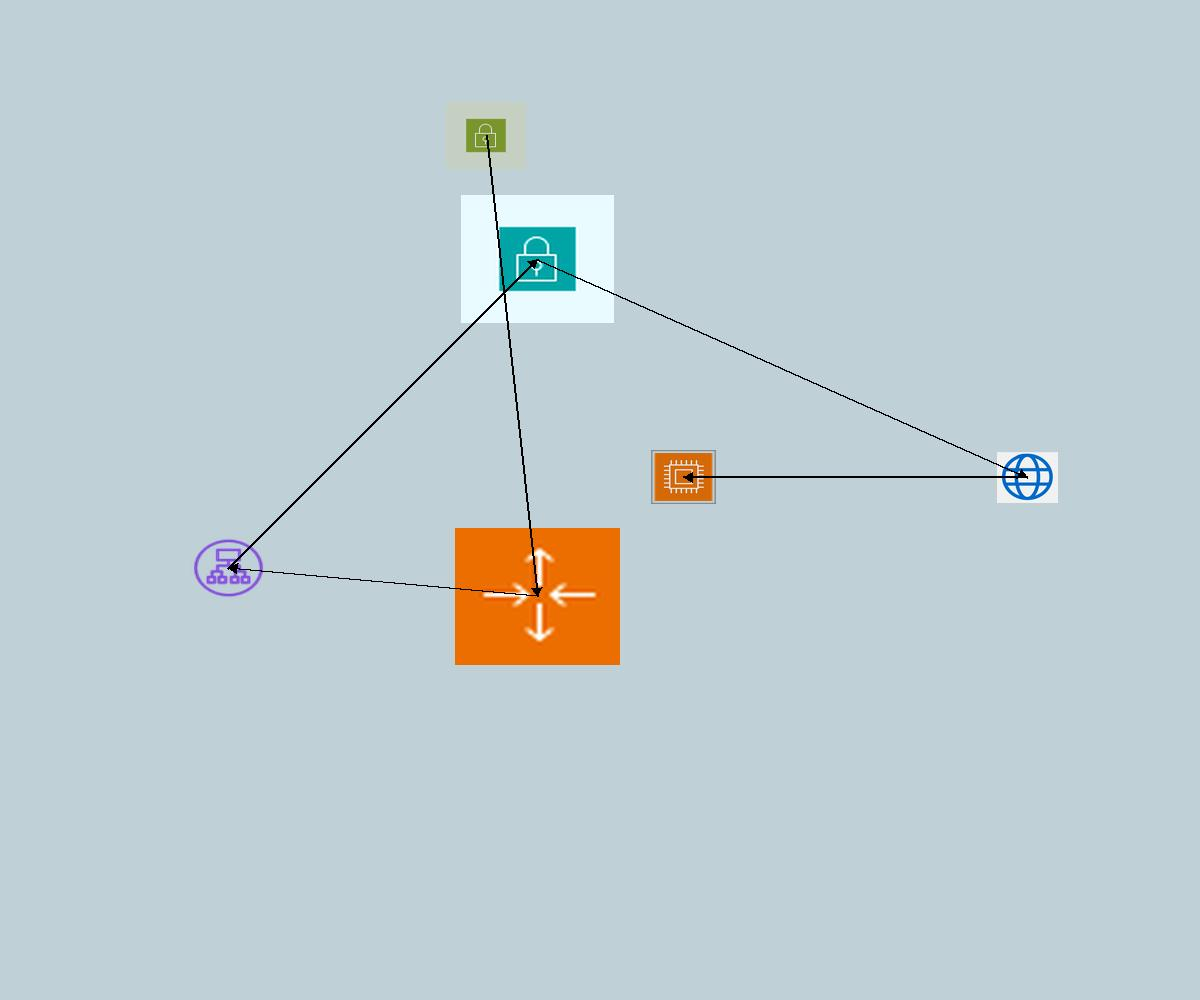AWS-Category_Compute: (651, 450, 716, 504)
AWS-Private-subnet: (461, 195, 614, 323)
AWS-Public-subnet: (446, 102, 526, 169)
AWS-Res_Elastic-Load-Balancing_Application-Load-Balancer: (191, 537, 266, 599)
AWS-Scaling-group: (455, 528, 620, 665)
Azure_http: (997, 452, 1058, 503)
